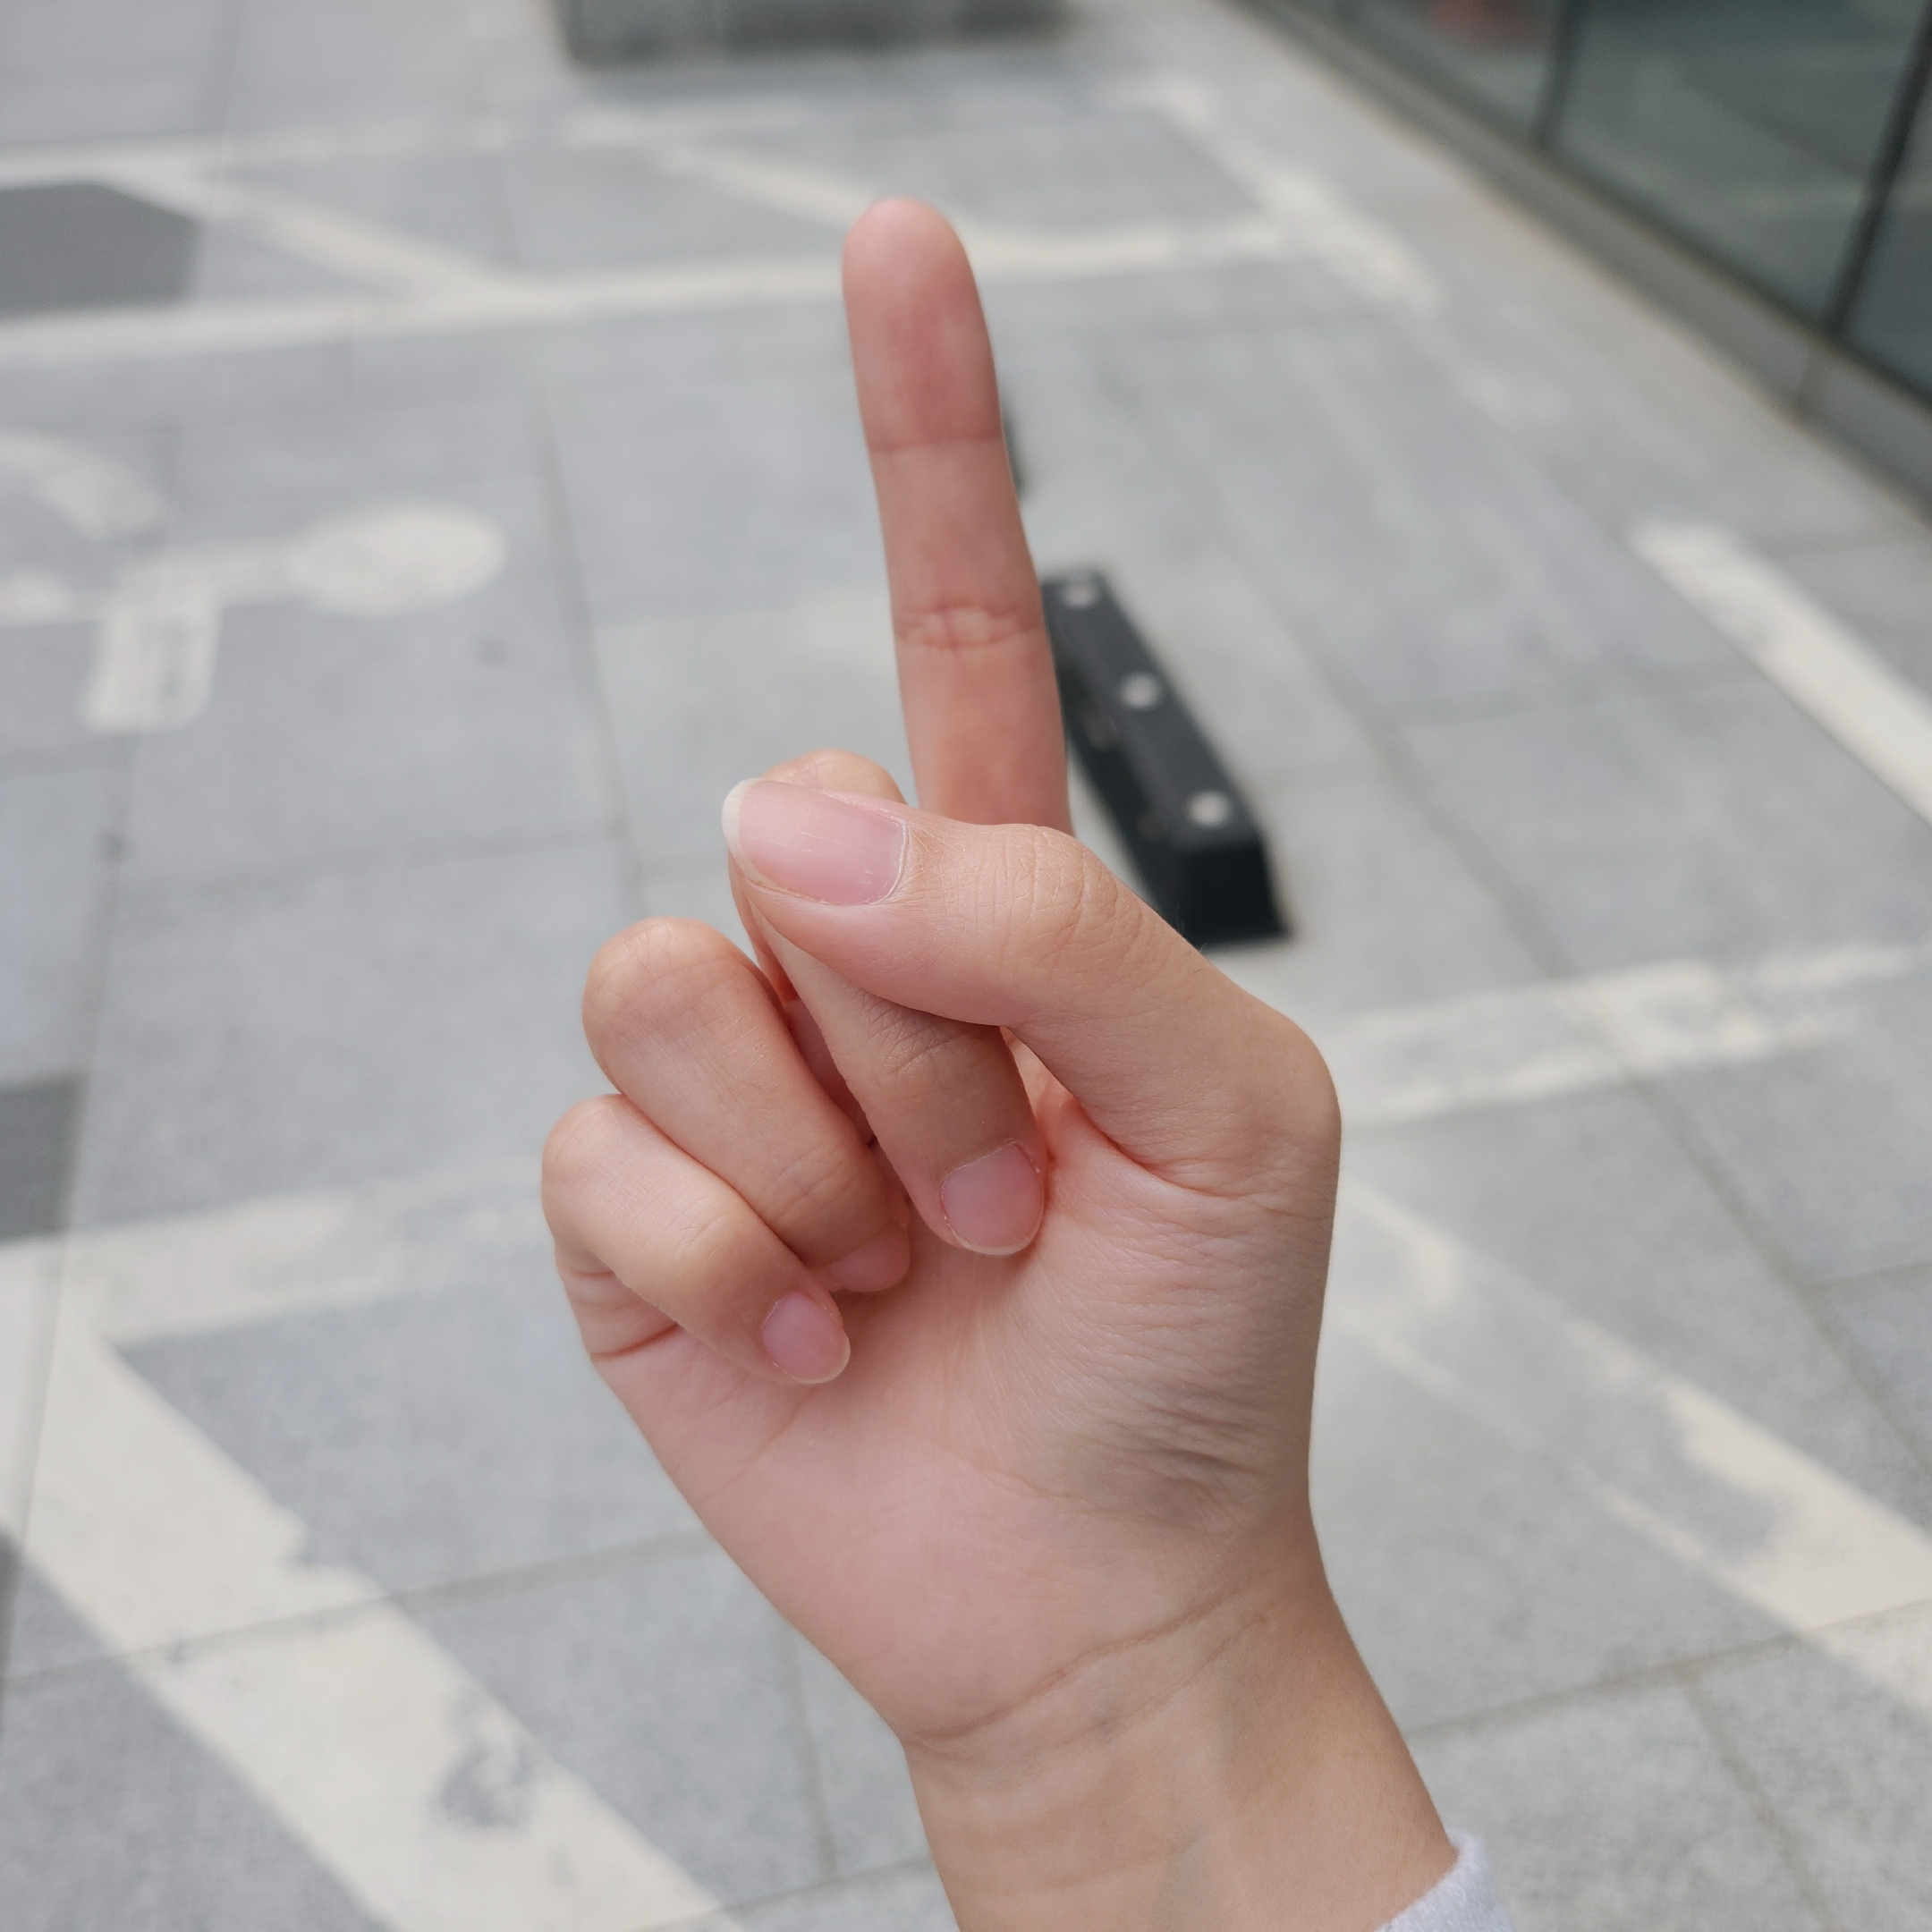what: (538, 189, 1348, 1725)
